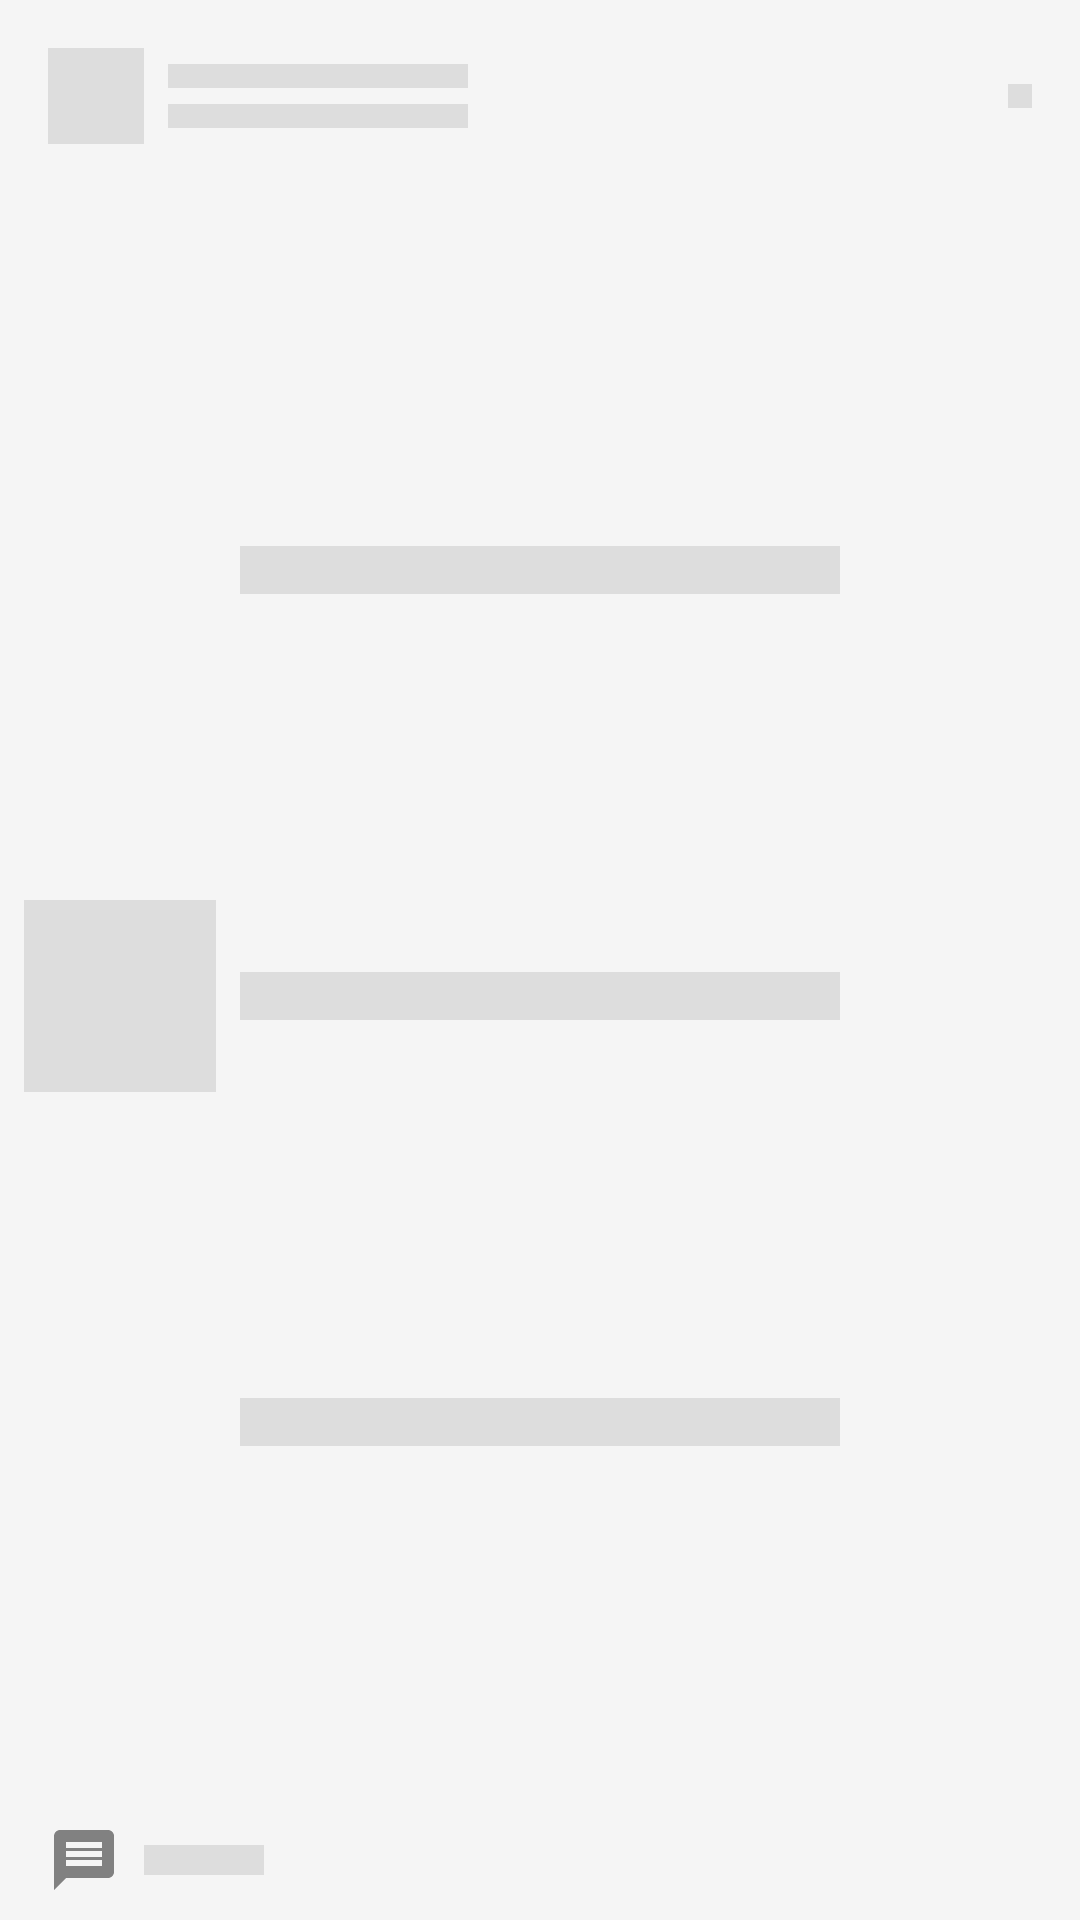

Named icons in this screenshot (1080 × 1920) and their bounding boxes, [x1, y1, x2, y2]:
message: [54, 1830, 114, 1890]
